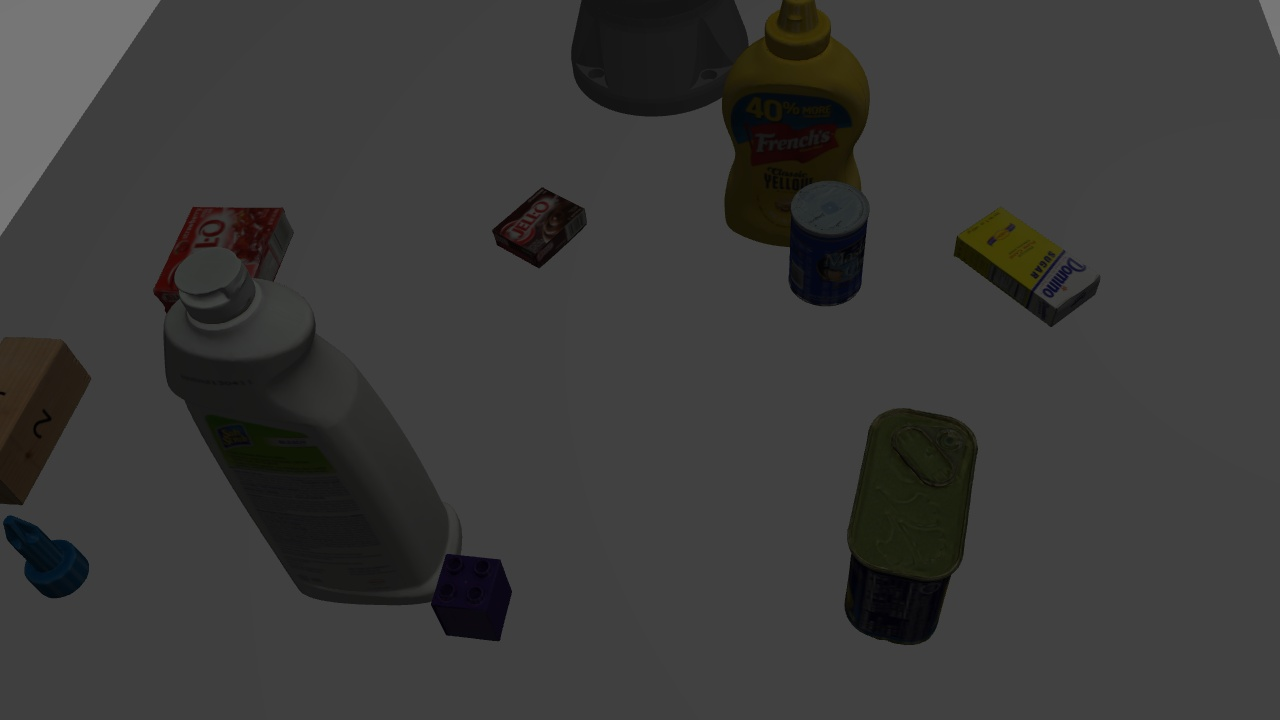gelatin_box: (158, 197, 299, 311)
master_chef_can: (780, 176, 869, 306)
mustard_bottle: (725, 6, 874, 238)
potted_meat_can: (844, 406, 974, 638)
pudding_box: (494, 192, 586, 263)
wood_block: (2, 326, 84, 503)
